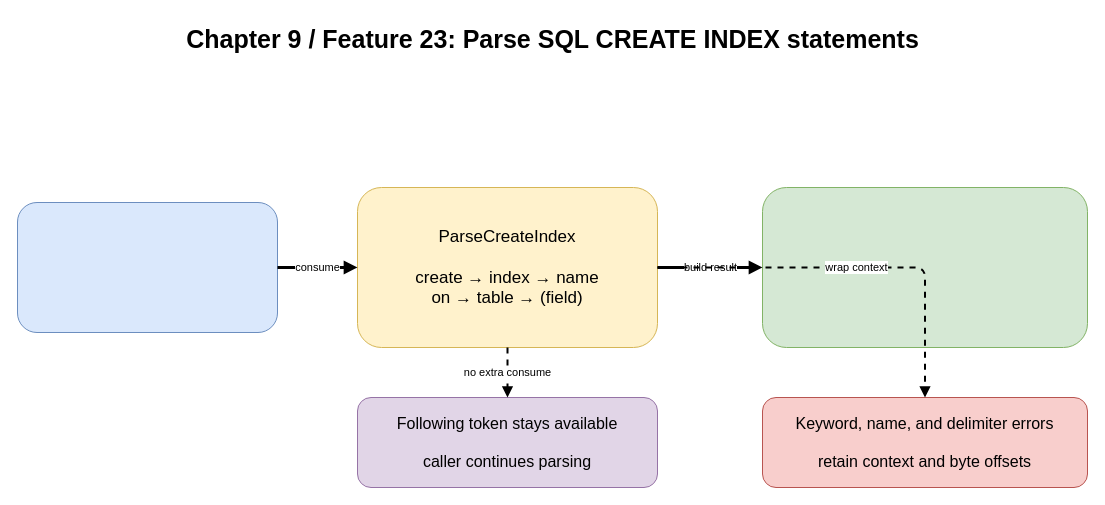
This 1105x505 diagram has some shape labels left out. Here are the shapes that lost their labels. From the top down, the centre of each, then its label:
At point (147, 267): "SQL input CREATE INDEX ix ON student (name)".
At point (925, 267): "CreateIndexData index name table name · field name".
